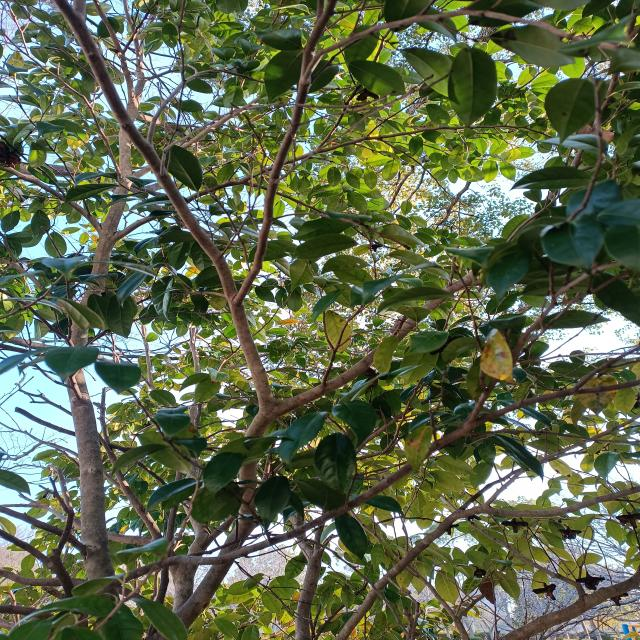Branch: (110, 387, 578, 591), (55, 0, 271, 411), (60, 117, 135, 582), (275, 269, 476, 417), (180, 402, 277, 629), (74, 516, 193, 609), (499, 566, 640, 640), (1, 506, 87, 556), (120, 478, 162, 540), (0, 568, 89, 587), (47, 558, 75, 598)
Twig: (117, 125, 553, 241), (337, 486, 640, 640), (237, 0, 337, 303), (303, 9, 616, 81), (352, 510, 469, 640), (444, 499, 588, 602), (484, 414, 640, 506), (297, 536, 409, 640), (0, 288, 82, 400), (0, 163, 104, 236), (461, 450, 587, 508), (0, 134, 66, 196), (43, 135, 91, 215), (19, 321, 72, 389), (14, 364, 72, 416), (39, 476, 74, 558), (0, 423, 79, 458), (576, 347, 640, 388), (15, 407, 76, 437), (1, 529, 47, 565), (13, 73, 38, 130), (19, 494, 68, 522), (579, 380, 640, 393), (0, 443, 42, 461), (0, 504, 43, 508), (30, 396, 48, 403), (0, 447, 11, 457)
